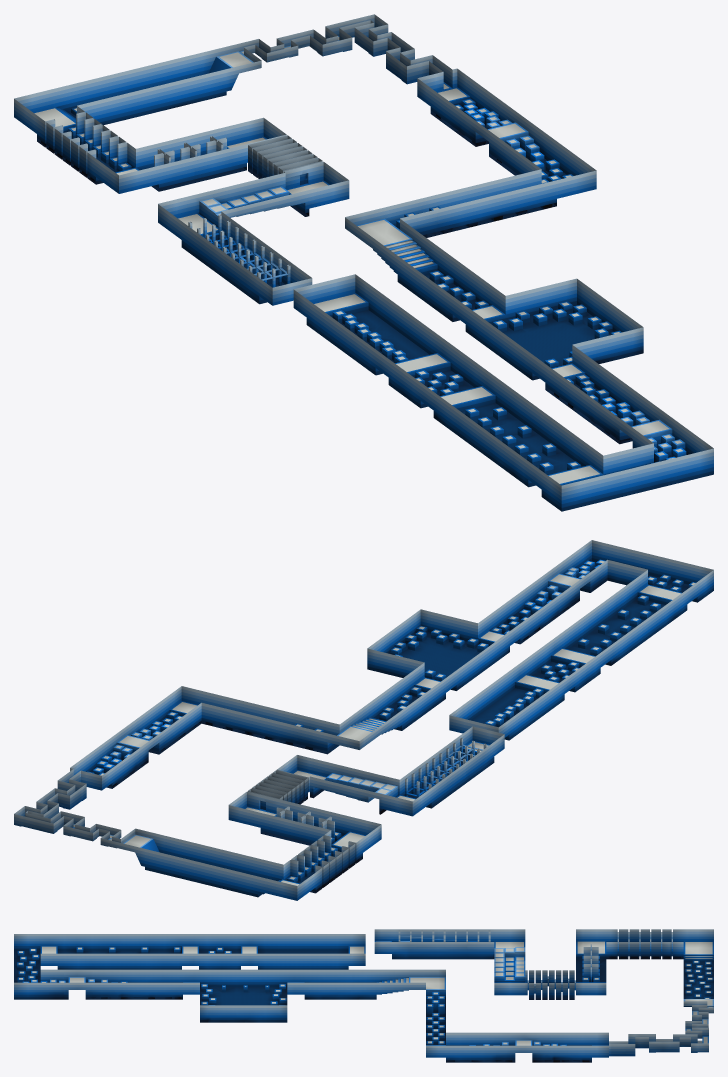
The model's file is blushade.gltf.
3 renders of one model, top to bottom at view 1: azimuth 30°, elevation 25°; view 2: azimuth 150°, elevation 25°; view 3: azimuth 270°, elevation 25°, orthographic. The views are drawn at different scales.
Visible parts, largest first — view 1: blu.001; view 2: blu.001; view 3: blu.001.
Part boxes in pixels (bbox=[...]): blu.001: bbox=[14, 14, 713, 511]; blu.001: bbox=[14, 540, 713, 900]; blu.001: bbox=[14, 929, 713, 1062].
Size of the model in its own units: 235 by 16.13 by 597.
10 materials, 10 textured.
